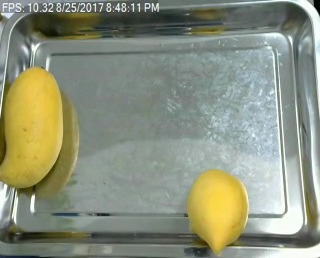Mango: (0, 61, 66, 193), (180, 164, 253, 255)
